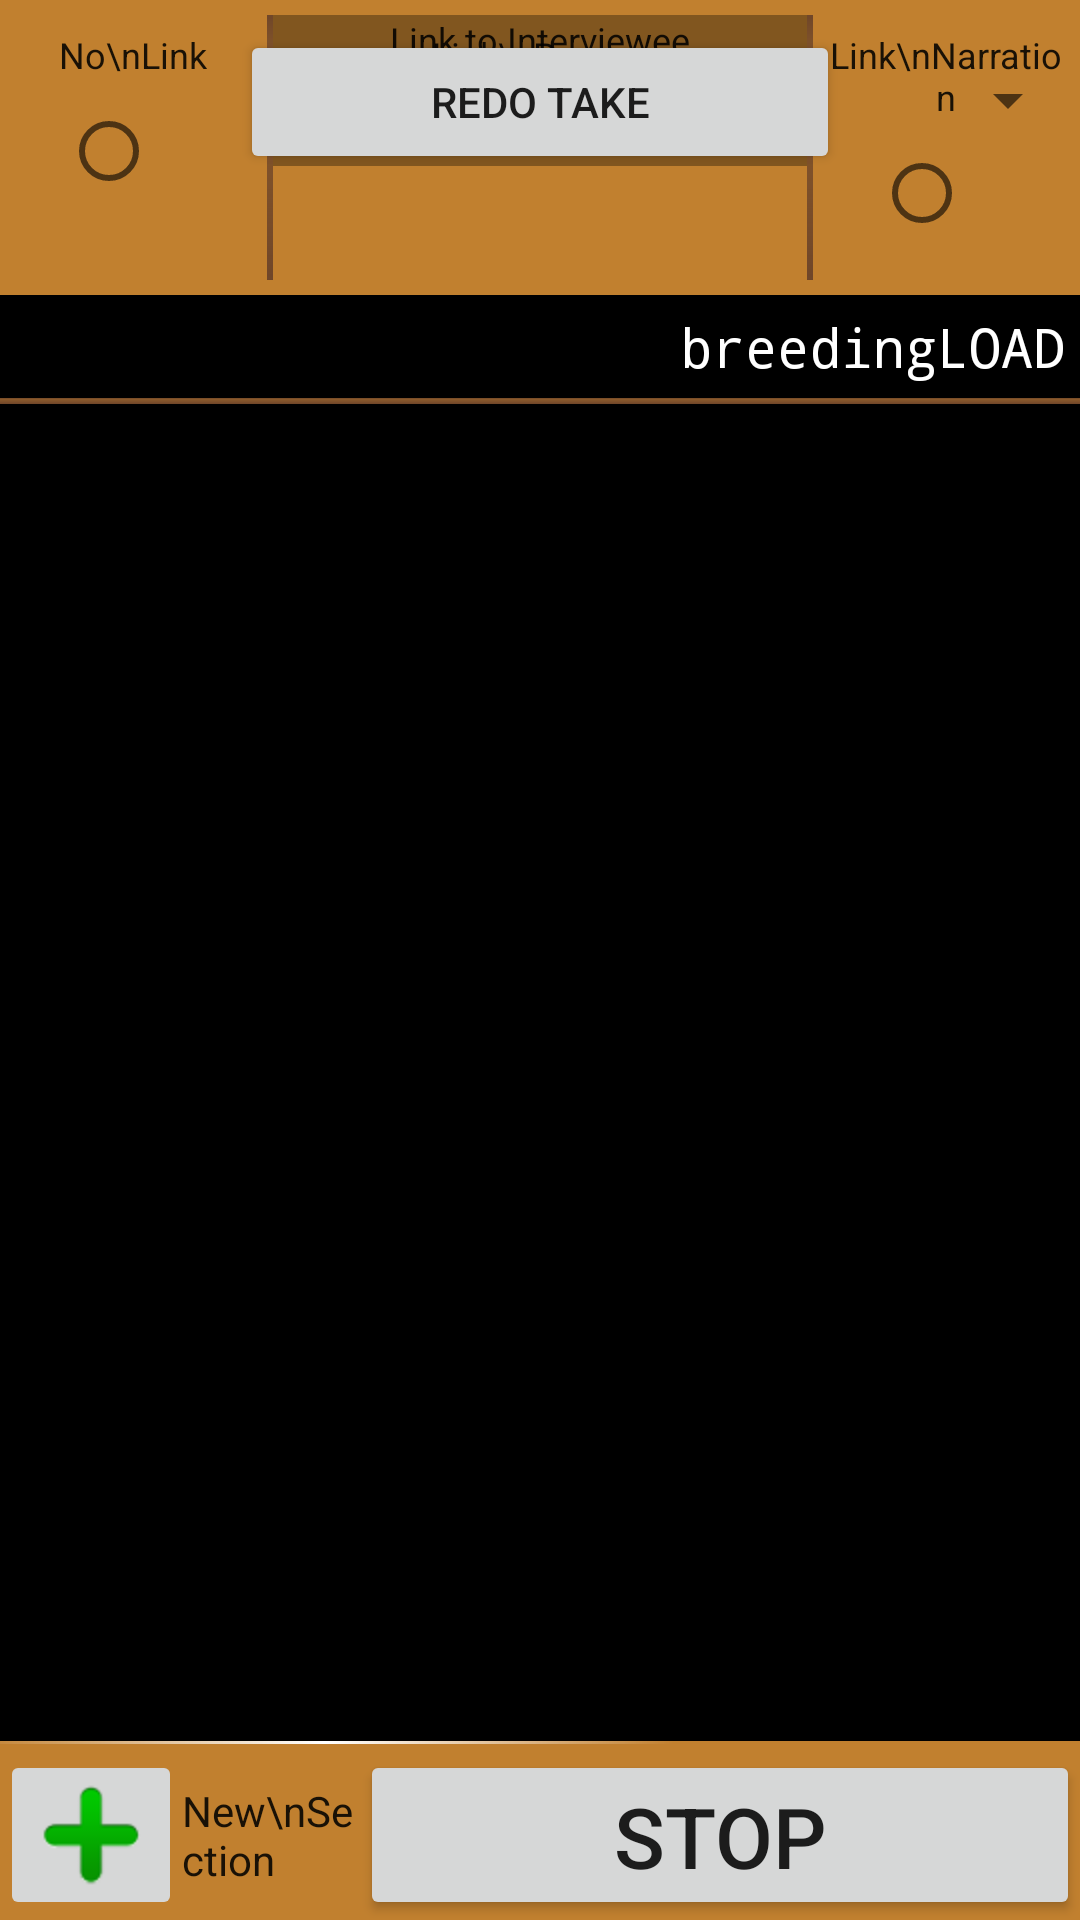

Named icons in this screenshot (1080 × 1920) and their centers, [x,y]:
plusbutton: [91,1835]
